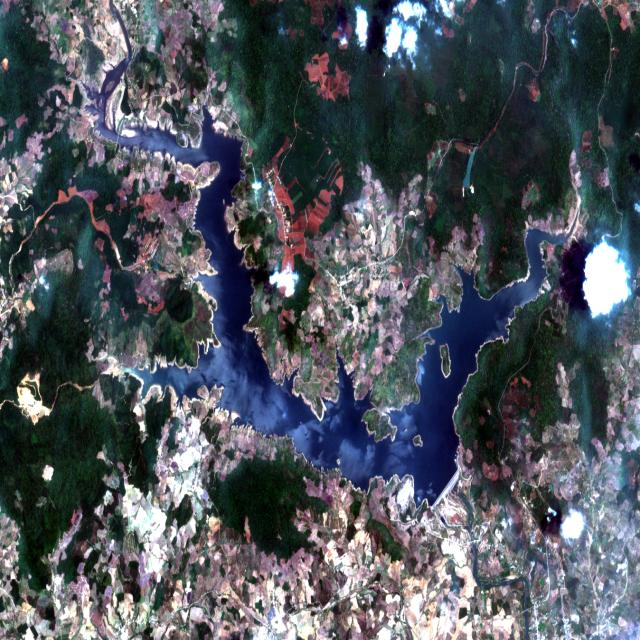bard_land: (439, 344, 451, 378), (413, 435, 423, 447)
river: (88, 0, 579, 508)
